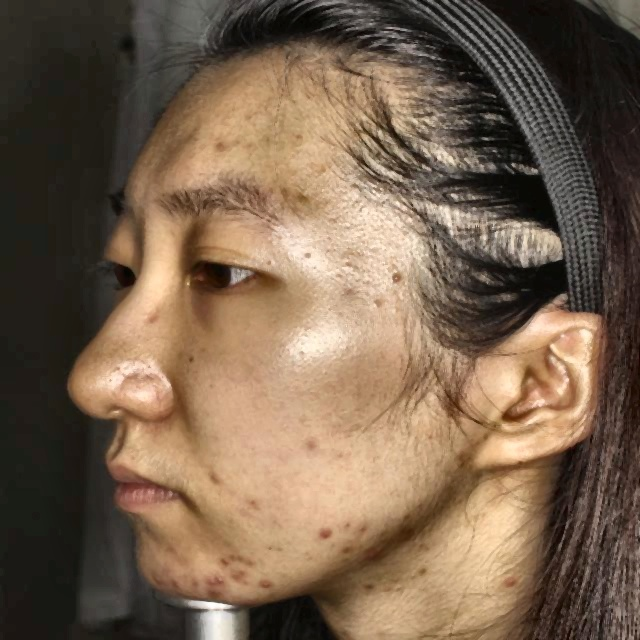pustule: (333, 538, 355, 564), (222, 564, 250, 583), (306, 520, 330, 542), (202, 467, 223, 492), (251, 574, 276, 594), (213, 547, 250, 560), (150, 560, 166, 590), (344, 518, 369, 536), (360, 543, 385, 560), (199, 572, 221, 587), (208, 586, 228, 602), (170, 570, 188, 587), (210, 140, 226, 151)
